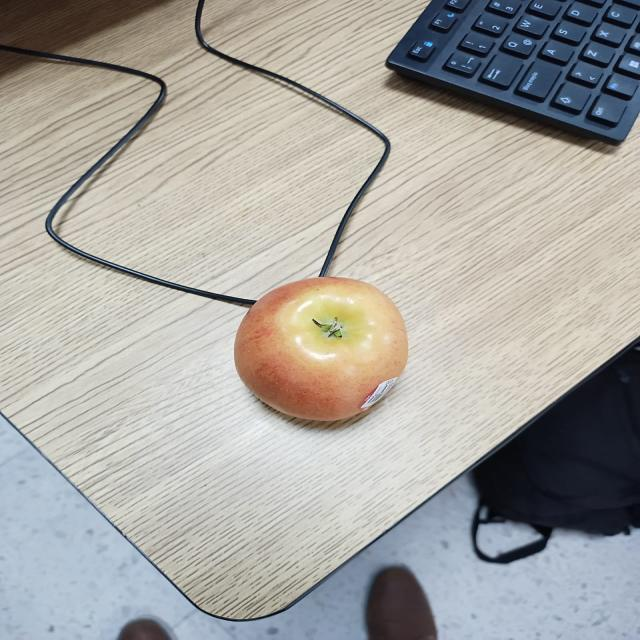Apel Gala: (230, 273, 413, 425)
